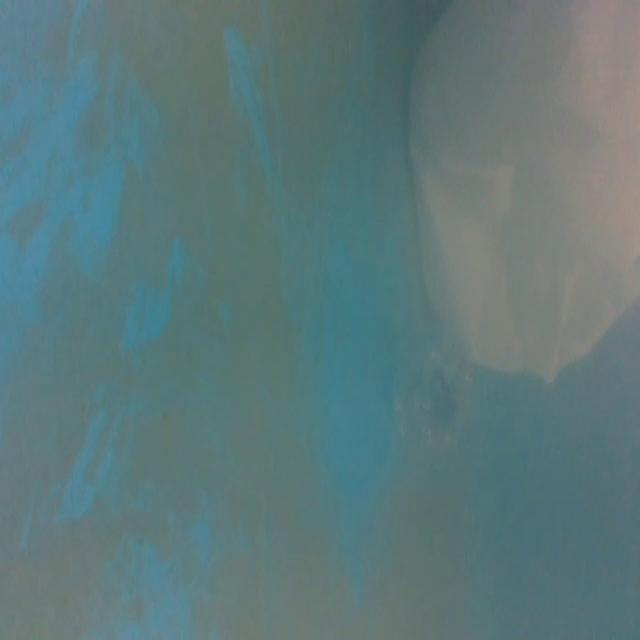plastic bags: (404, 0, 640, 388)
